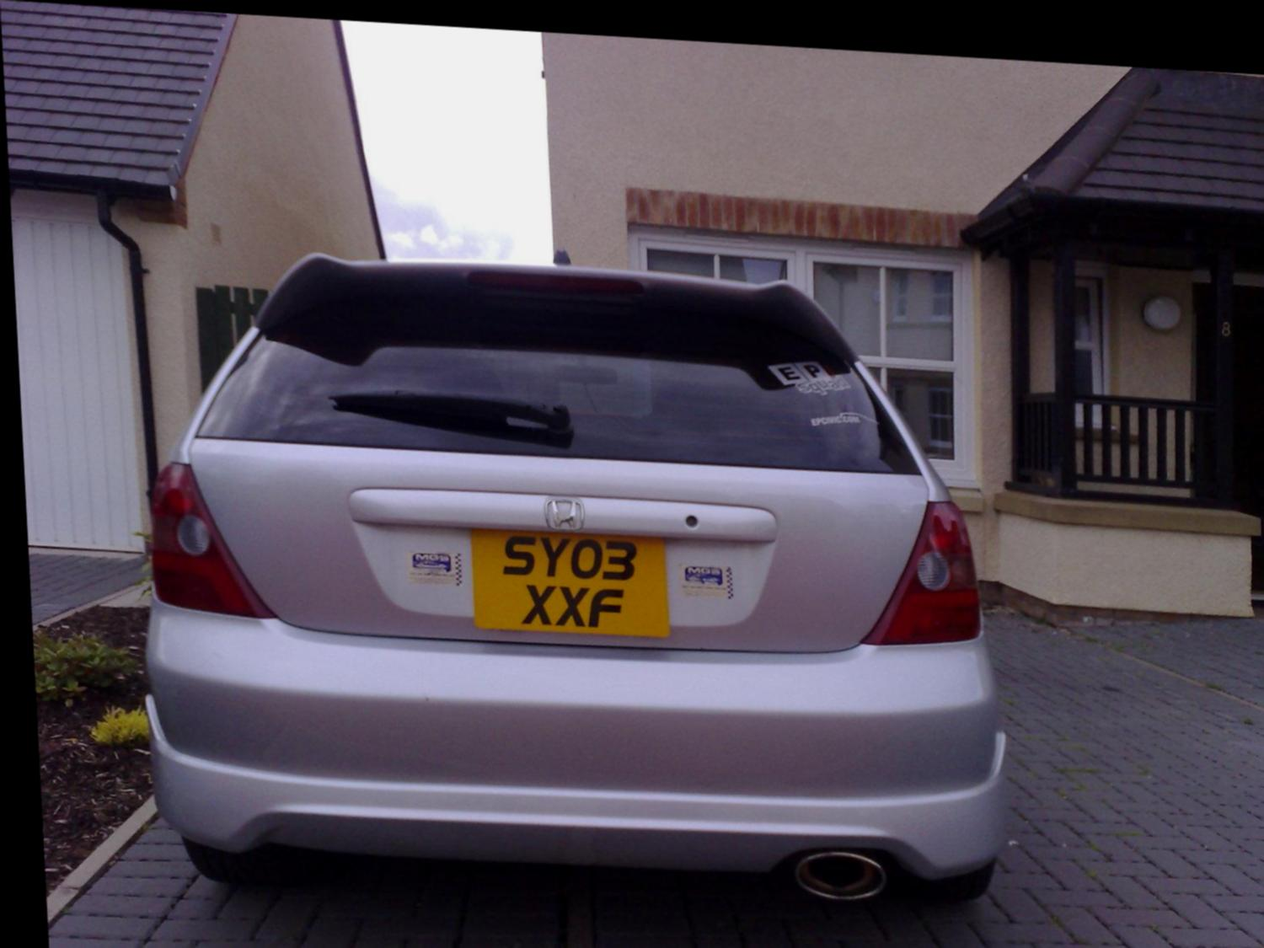License_Plate: (458, 522, 682, 660)
